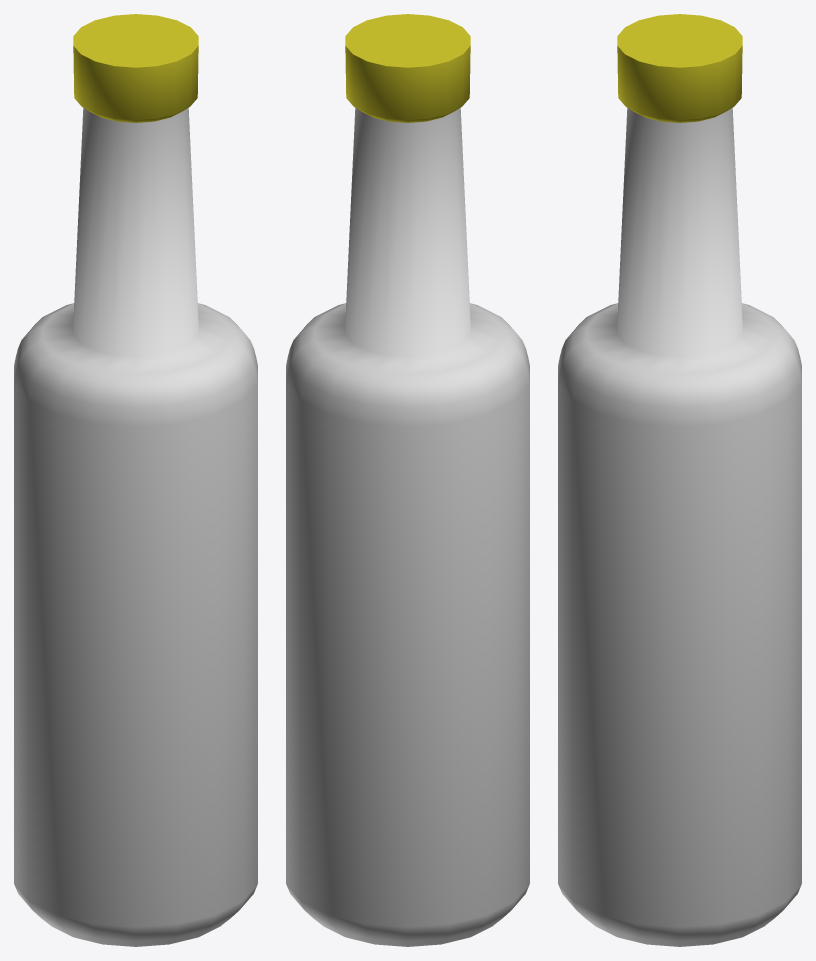
Rendered from pingzi1.fbx.
3 views of the same model, side by side, from view 1: azimuth 30°, elevation 25°; view 2: azimuth 150°, elevation 25°; view 3: azimuth 270°, elevation 25° (orthographic).
Parts seen in each view (by area): view 1: Cylinder048.002, Cylinder048.003; view 2: Cylinder048.002, Cylinder048.003; view 3: Cylinder048.002, Cylinder048.003.
Boxes of the visible parts, box(x1,y1,x2,y2) form: Cylinder048.002: box(14, 108, 257, 946); Cylinder048.003: box(73, 14, 198, 122); Cylinder048.002: box(286, 108, 529, 946); Cylinder048.003: box(345, 14, 470, 122); Cylinder048.002: box(558, 108, 801, 946); Cylinder048.003: box(617, 14, 742, 122).
Bounding box in the file's own units: 12.6 × 48.52 × 12.4.
